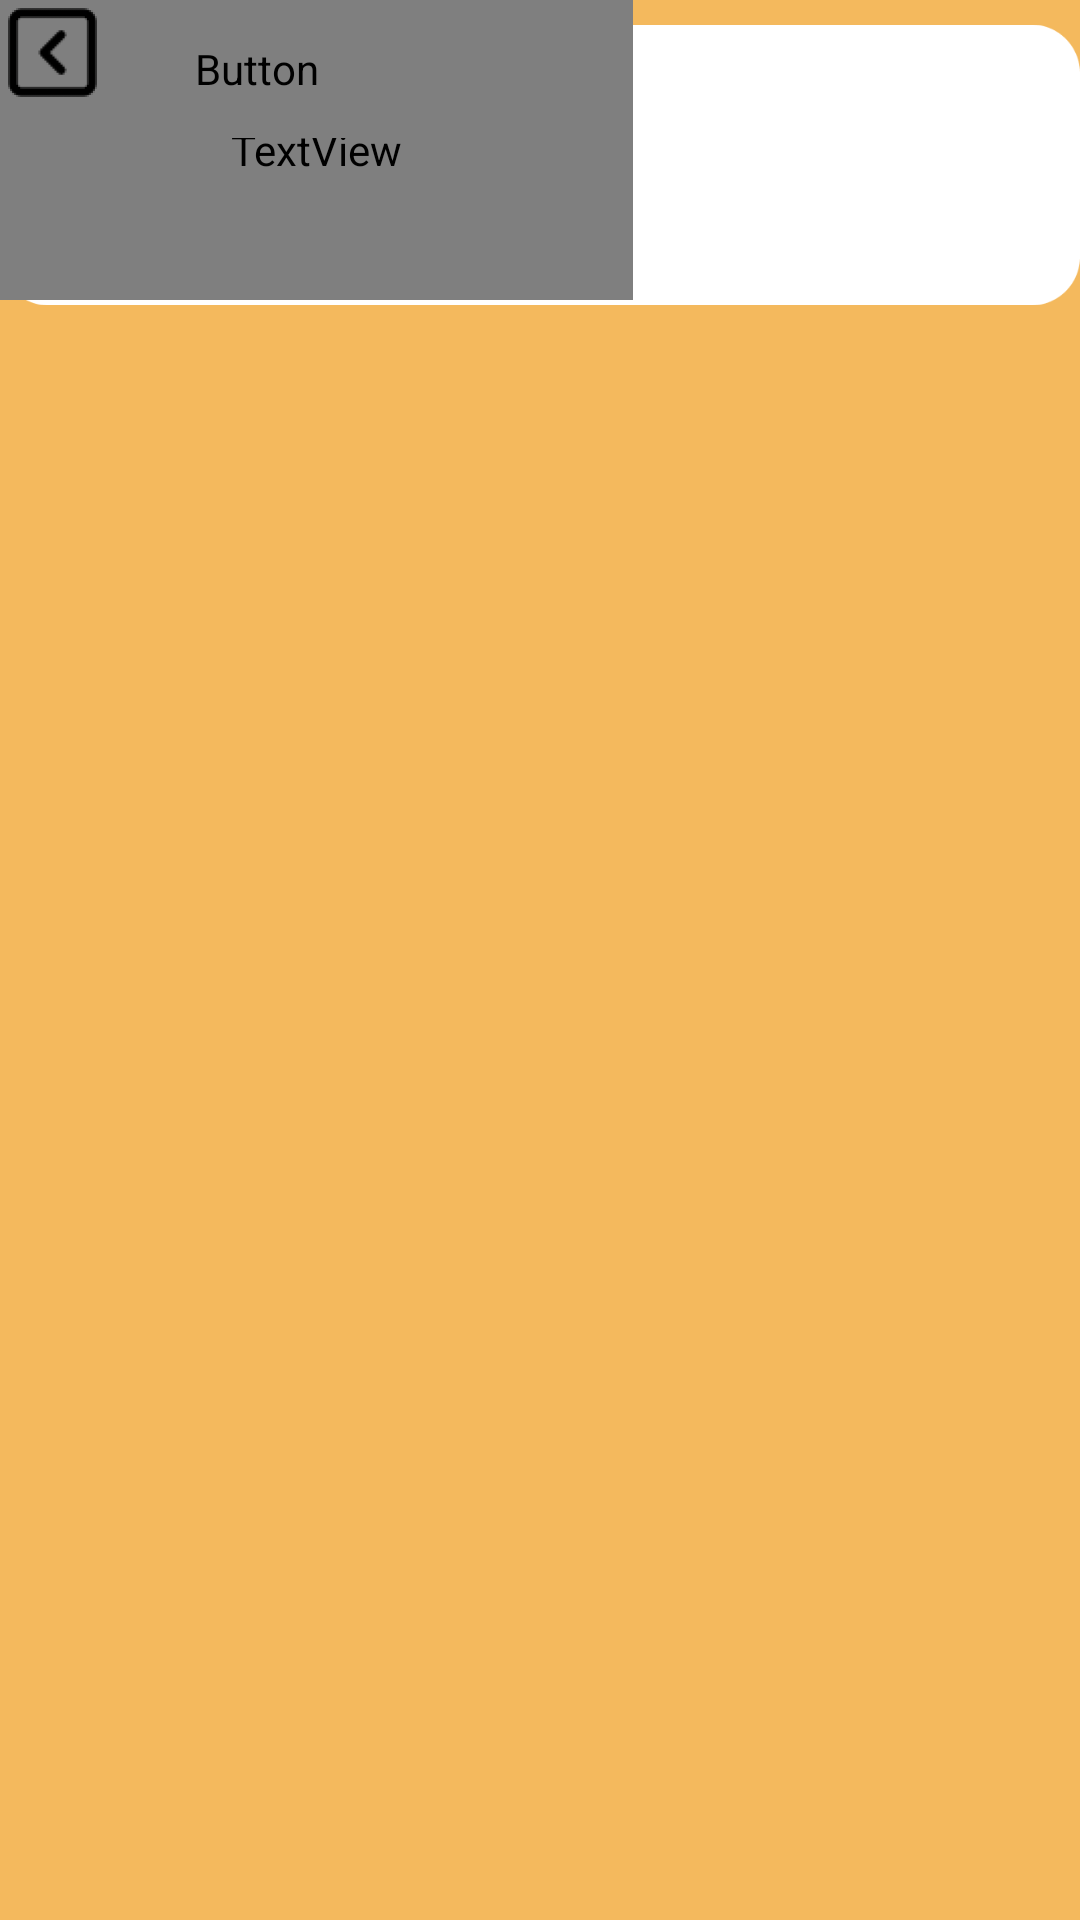

Where to tap for icons on this 1080px×1920px app screen, as (x,y):
volver: (52,52)
